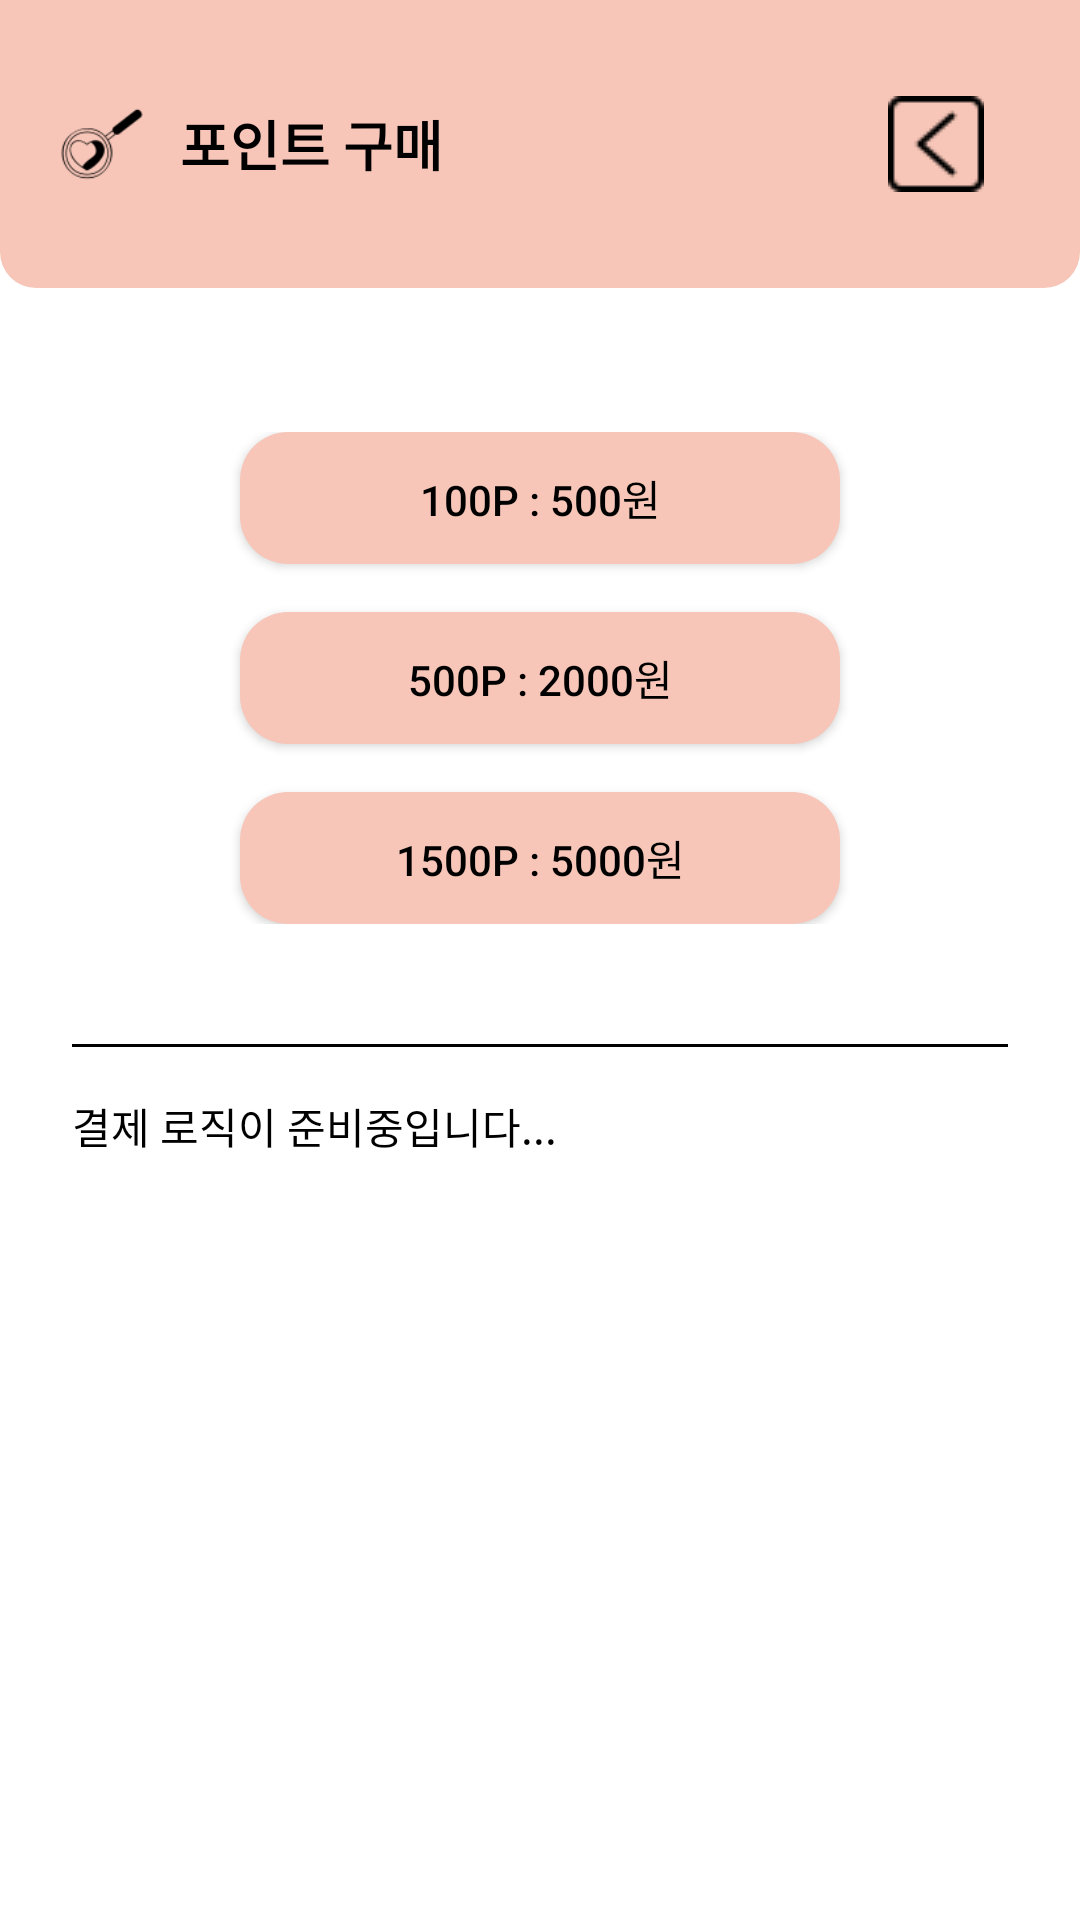

Point at icon controls on the screen. Image size 1080 x 1920, points as point (x, y).
back: point (936, 144)
